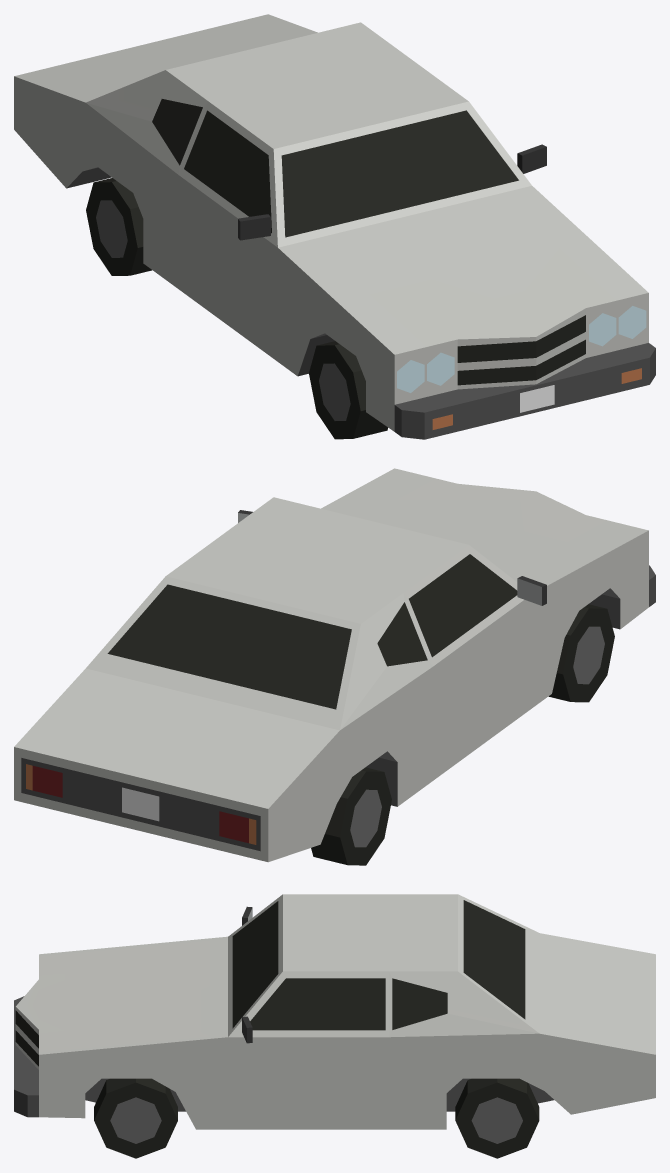
Rendered from Veh_Muscle_Car_02_White.glb.
The picture shows the model from 3 angles, top to bottom: view 1: azimuth 30°, elevation 25°; view 2: azimuth 150°, elevation 25°; view 3: azimuth 270°, elevation 25°; orthographic projection. The views are drawn at different scales.
Visible parts, largest first — view 1: Muscle_Car_02_White, Wheel_FR, Wheel_RR; view 2: Muscle_Car_02_White, Wheel_RR, Wheel_FR; view 3: Muscle_Car_02_White, Wheel_RL, Wheel_FL.
Part boxes in pixels (bbox=[...]): Muscle_Car_02_White: bbox=[14, 14, 655, 439]; Wheel_FR: bbox=[309, 341, 387, 439]; Wheel_RR: bbox=[86, 178, 151, 275]; Muscle_Car_02_White: bbox=[14, 468, 655, 862]; Wheel_RR: bbox=[311, 767, 391, 865]; Wheel_FR: bbox=[548, 604, 614, 702]; Muscle_Car_02_White: bbox=[14, 894, 655, 1129]; Wheel_RL: bbox=[455, 1078, 539, 1158]; Wheel_FL: bbox=[94, 1078, 177, 1158].
Bounding box in the file's own units: 1.18 × 0.8001 × 2.65.
1 material, 1 textured.
